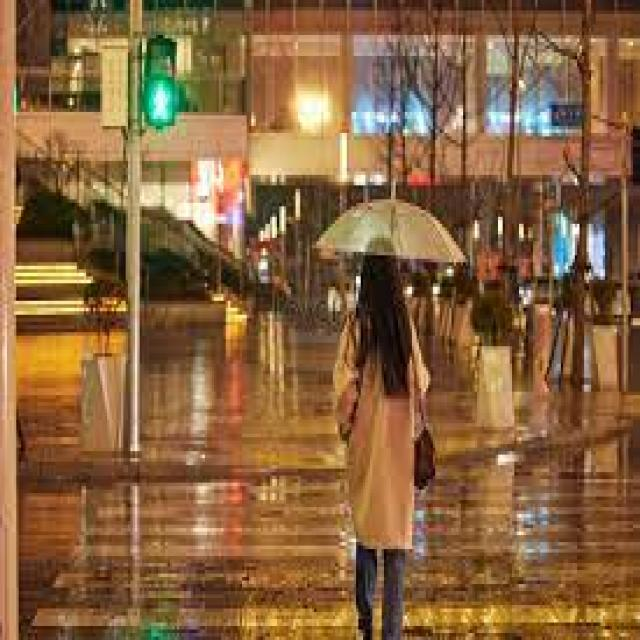Pedestrians: (330, 238, 438, 636)
